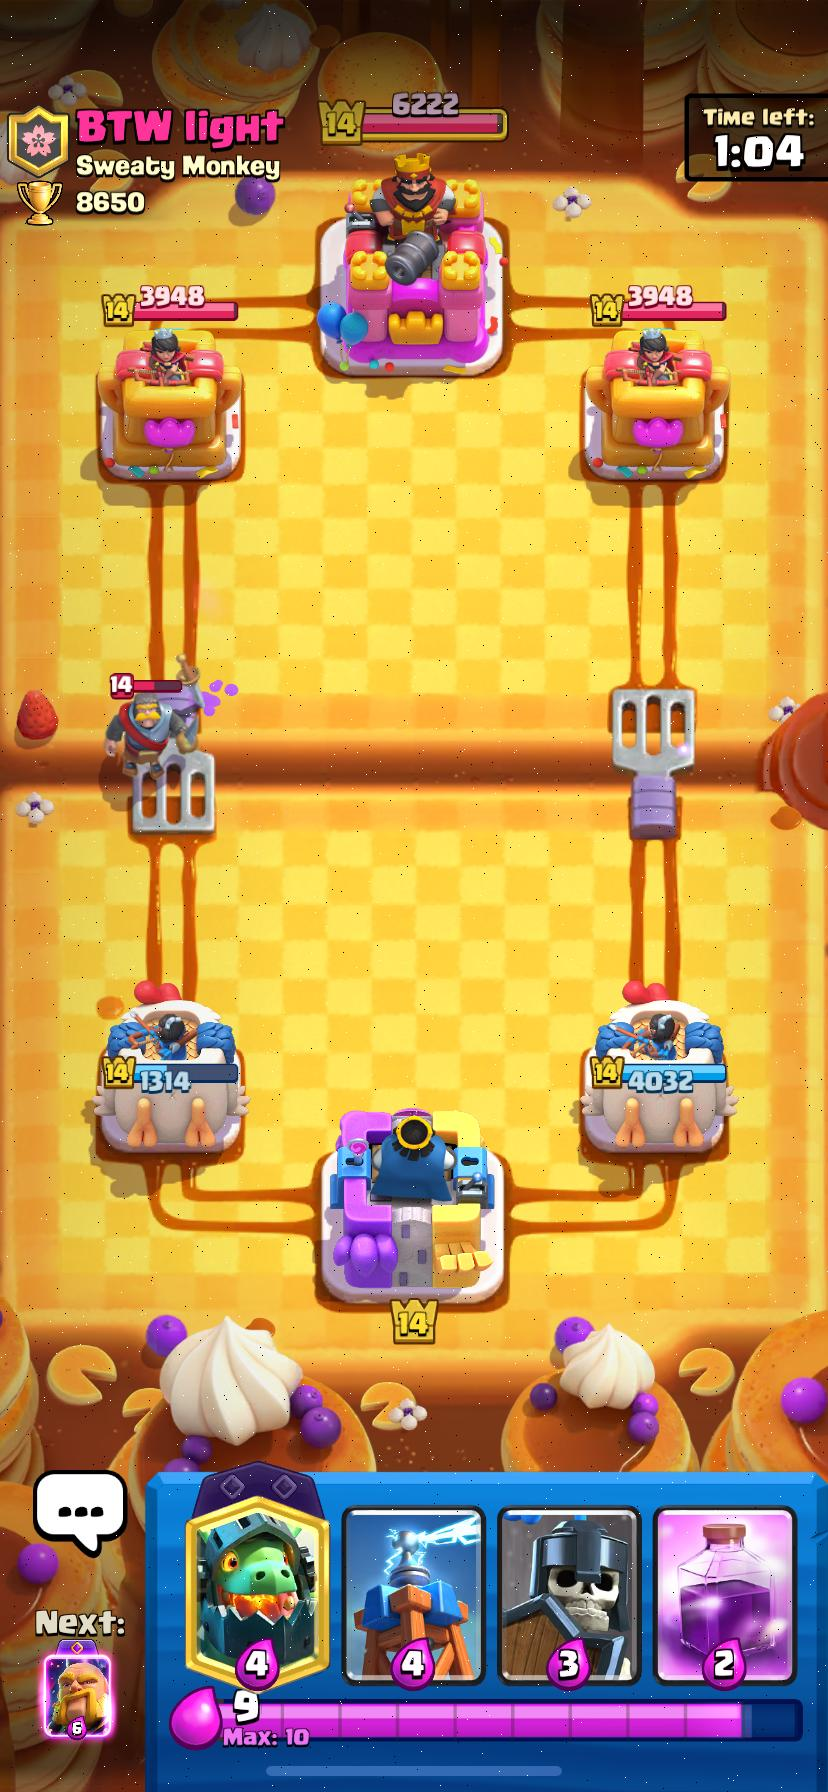EKingTower: (316, 150, 502, 377)
EKnight: (105, 687, 202, 779)
EnemyPrincessTower: (582, 328, 729, 481), (97, 327, 242, 480)
OwnKingTower: (321, 1109, 503, 1303)
OwnPrincessTower: (581, 982, 735, 1154), (93, 983, 248, 1152)
